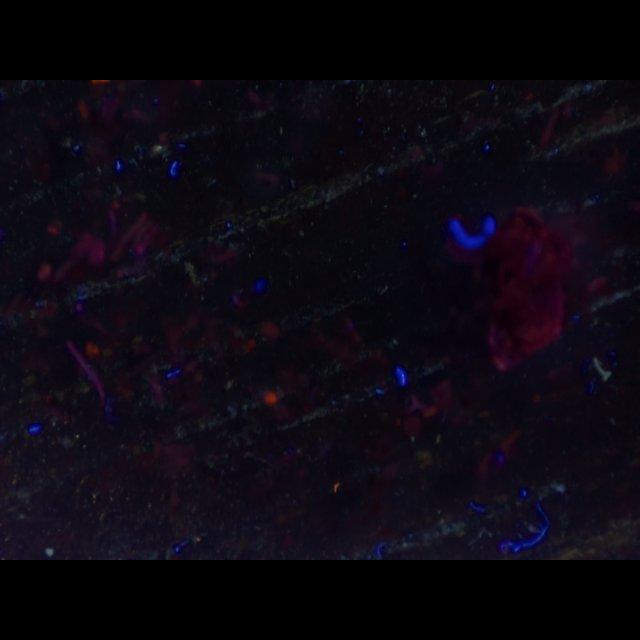microbeads: (42, 545, 54, 557)
